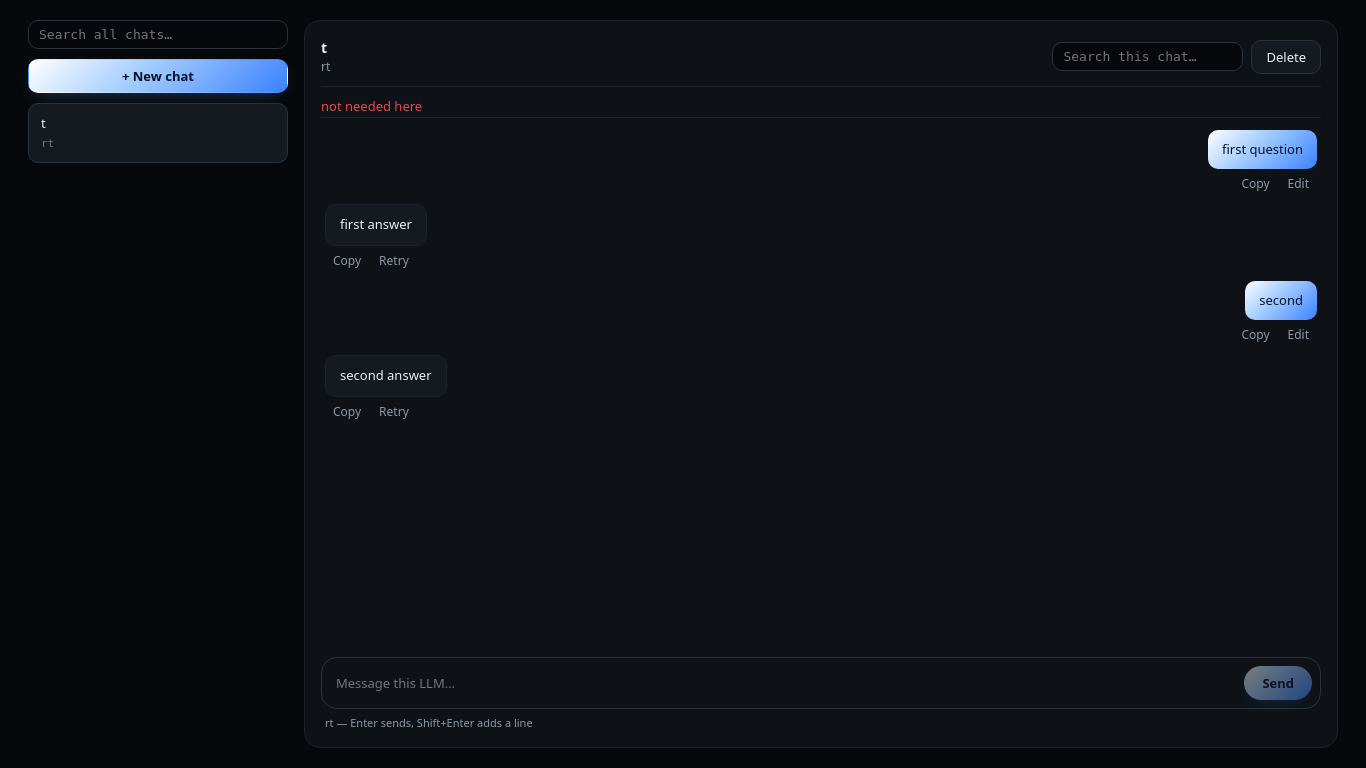
Test: message actions › while a reply is being generated, Edit and Retry are disabled
Type "go" into the text box with placeholder "Message this LLM…" at [786, 682], box [336,666,1236,700]
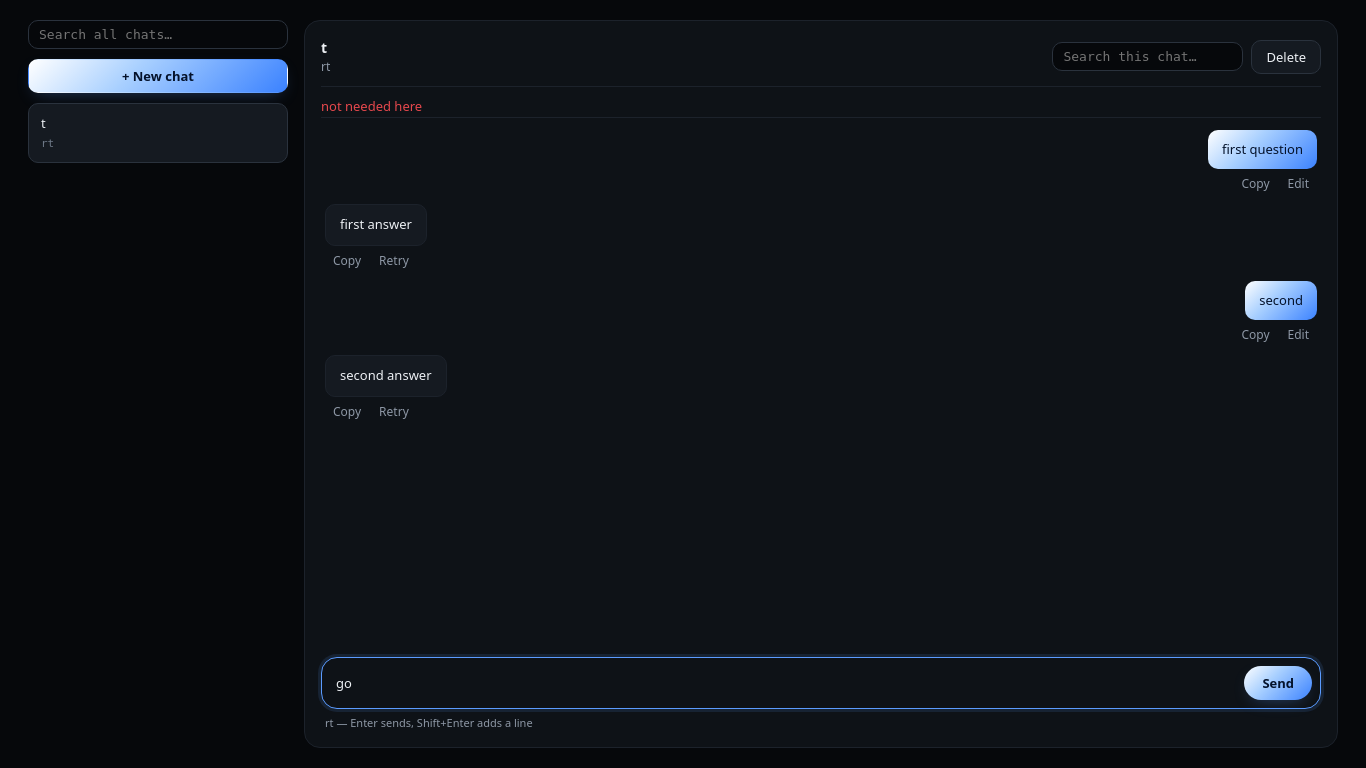
Click the button "Send" at [1278, 682], box [1244,666,1312,700]
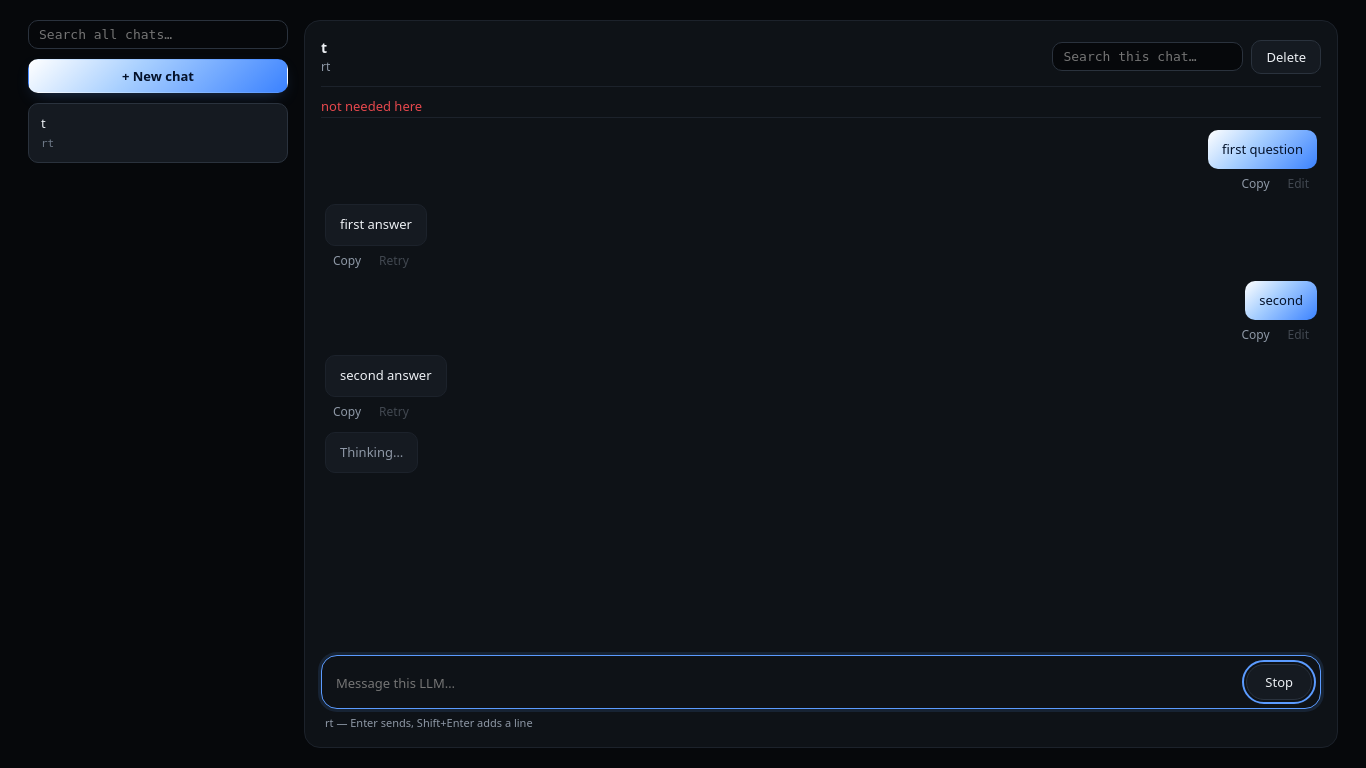
Expected: the element with test id "live-reply" is shown, [325,432,418,473]
Expected: the button with aria-label "Edit message" is disabled, [1280,173,1317,194]
Expected: the button with aria-label "Retry reply" is disabled, [371,250,417,270]
